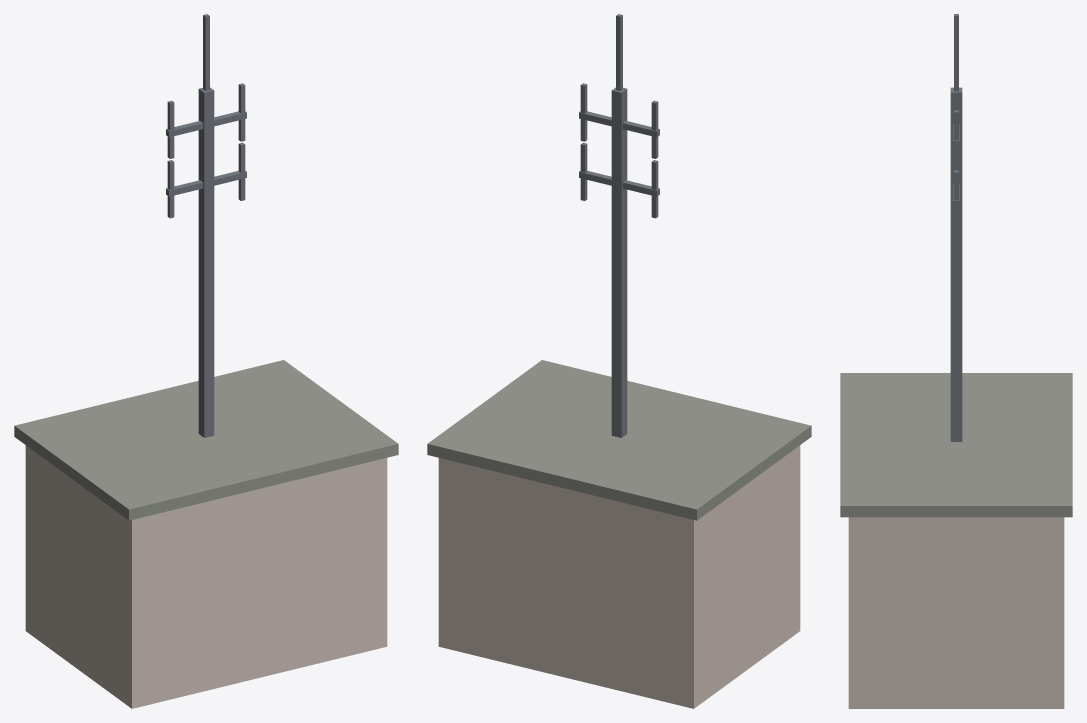
File: roofprop.fbx
3 views of the same model, side by side, from view 1: azimuth 30°, elevation 25°; view 2: azimuth 150°, elevation 25°; view 3: azimuth 270°, elevation 25° (orthographic).
Parts seen in each view (by area): view 1: a1053_roofprop; view 2: a1053_roofprop; view 3: a1053_roofprop.
Part boxes in pixels (<box>): a1053_roofprop: <box>14,14,398,708</box>; a1053_roofprop: <box>427,14,811,708</box>; a1053_roofprop: <box>840,14,1072,708</box>.
Bounding box in the file's own units: 3.8 × 8.4 × 2.8.
